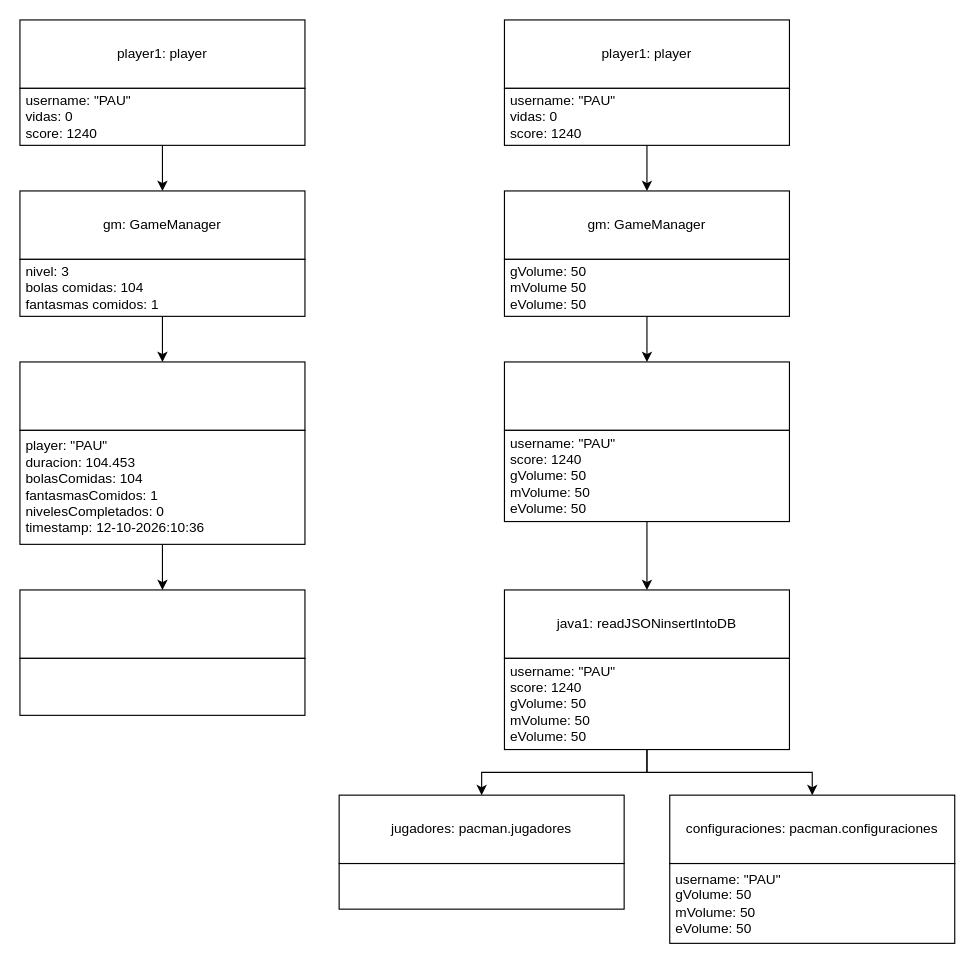
This 975x963 diagram has some shape labels left out. Each missing label, with the centre of its shape:
conexion activa = true database = "PacmanDB" coleccion = "Sessions": point 162,686
mongo: MongoDBManager: point 162,623
player_data1: player_data: point 646,395
session3: Session: point 162,395
username: "PAU" score: 1240: point 481,885
